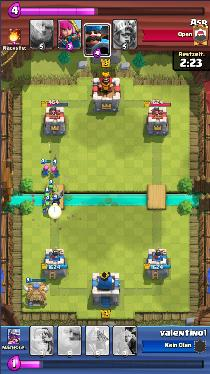ally_archer: (49, 166, 58, 178), (41, 166, 50, 176)
ally_goblin_hut: (23, 282, 50, 308)
ally_mini_pekka: (51, 193, 62, 206)
ally_spear_goblin: (45, 184, 58, 195), (42, 201, 51, 214), (42, 191, 51, 202)
